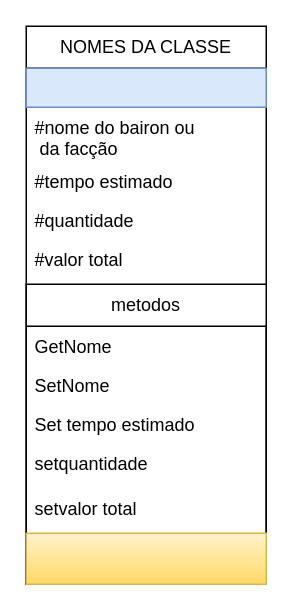
The diagram is 293 pixels wide and 611 high, and some of its shapes have lost their labels. Each missing label, with the centre of its shape:
ATRIBUTOS: [145,87]
PRODUTO: [145,558]
